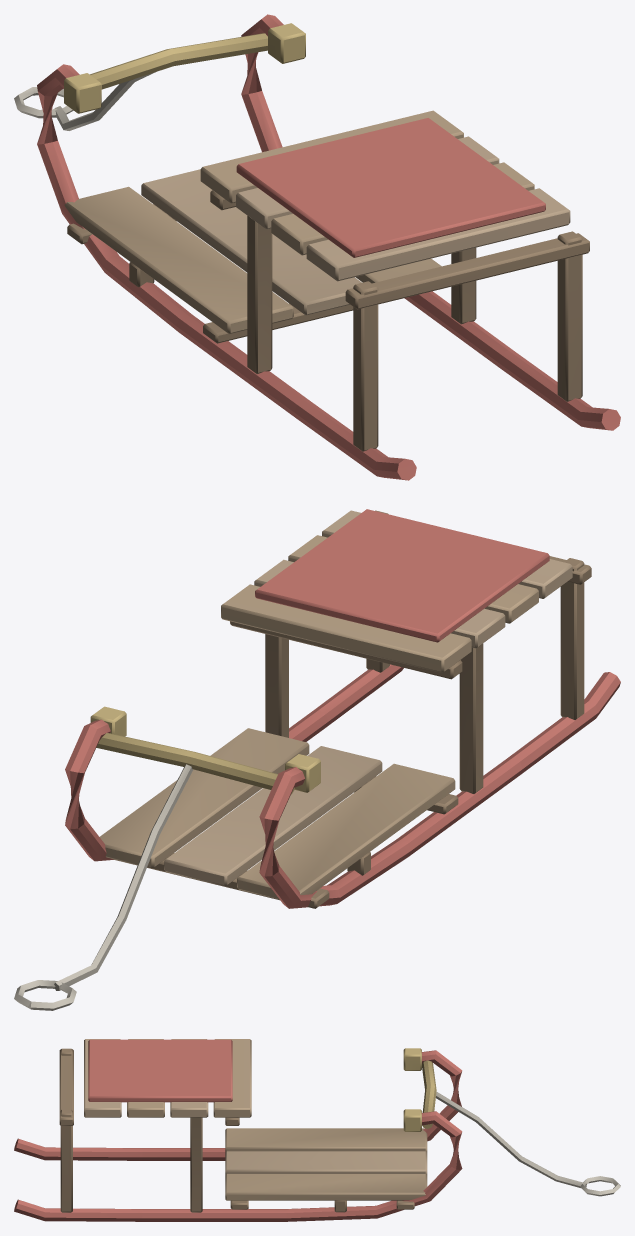
Rendered from ride_sled.glb.
3 renders of one model, top to bottom at view 1: azimuth 30°, elevation 25°; view 2: azimuth 150°, elevation 25°; view 3: azimuth 270°, elevation 25°, orthographic. The views are drawn at different scales.
Parts seen in each view (by area): view 1: ride_sled; view 2: ride_sled; view 3: ride_sled.
Boxes of the visible parts, box(x1,y1,x2,y2) form: ride_sled: box(14, 14, 620, 480); ride_sled: box(14, 509, 620, 1010); ride_sled: box(14, 1039, 620, 1221).
Bounding box in the file's own units: 0.46 × 0.377 × 1.68.
